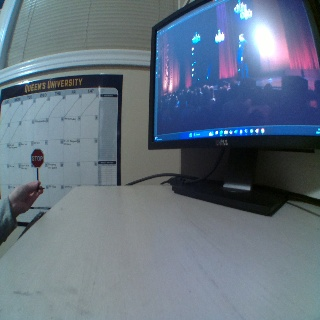sign_stop: (30, 148, 43, 165)
